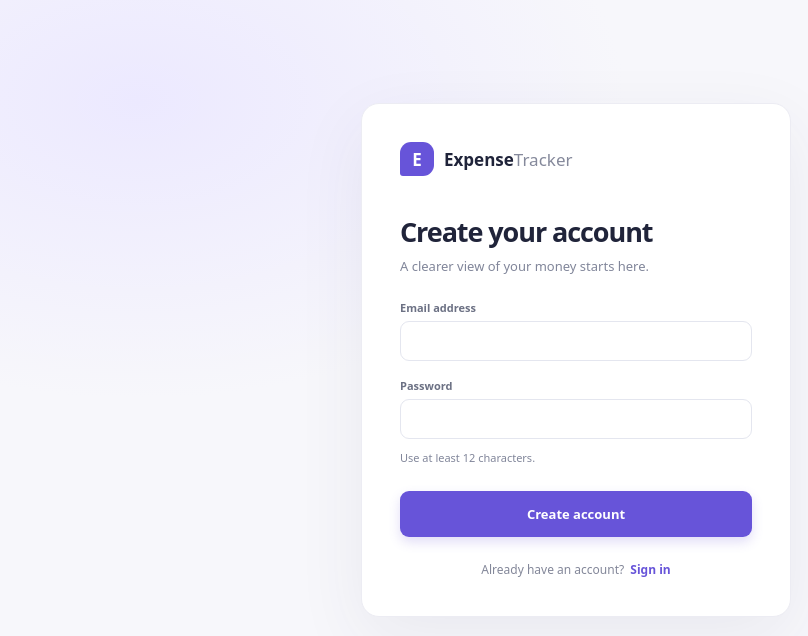
Test: authentication pages › shows registration success only after the API accepts the new account
Type "person@example.com" into the field labelled "Email address" at [576, 341], box [400,321,752,361]
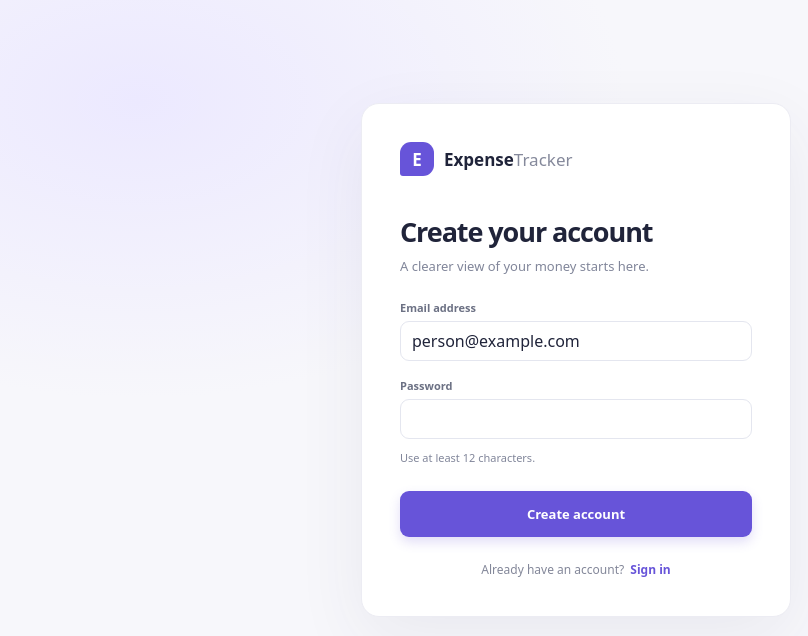
Type "very-secure-password" into the password field labelled "Password" at [576, 419], box [400,399,752,439]
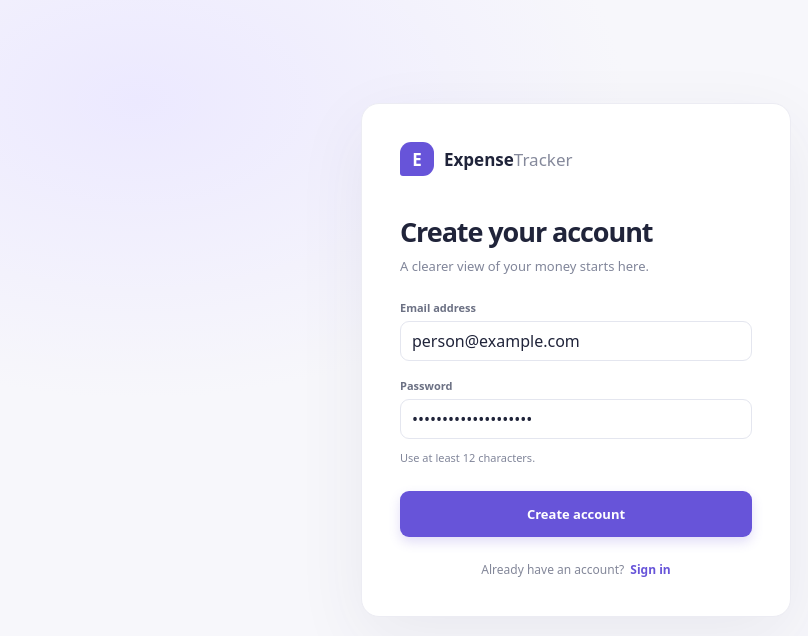
Click the button "Create account" at [576, 514], box [400,491,752,537]
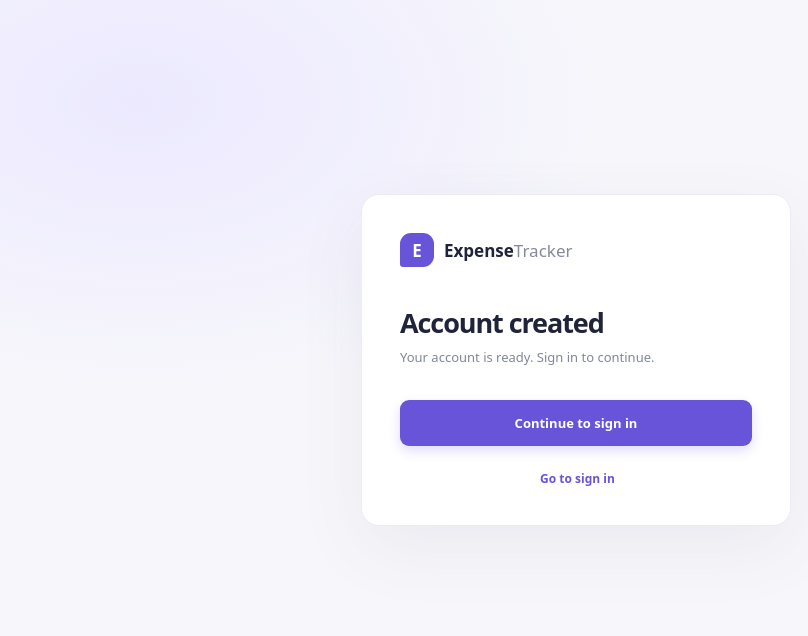
Result: the heading "Account created" is shown at [400,304,604,341]
